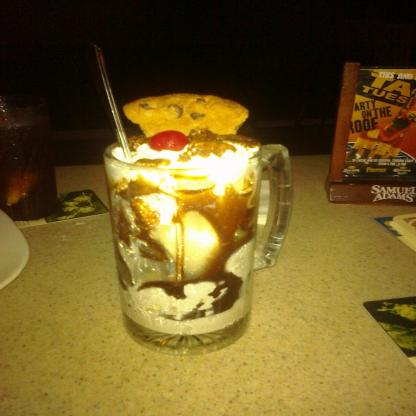book: (325, 56, 412, 206)
